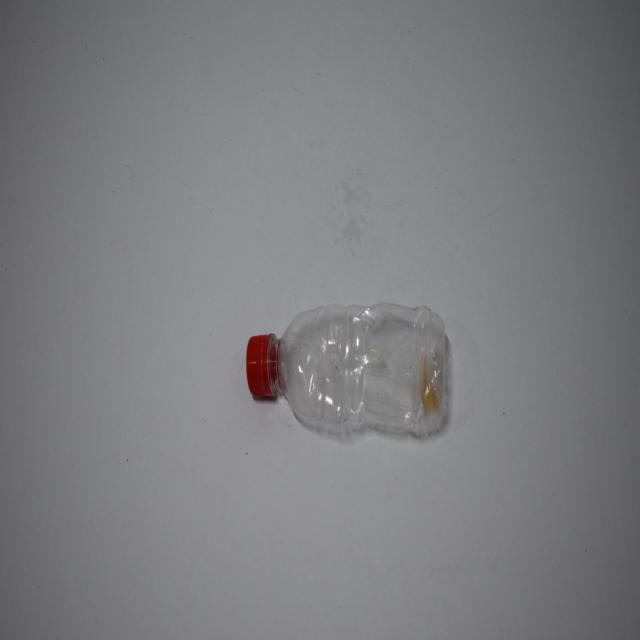bottle: (241, 281, 472, 448)
